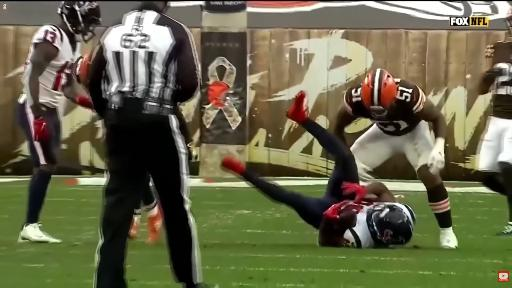Helmet: (367, 204, 413, 246), (361, 69, 397, 117), (58, 2, 100, 42), (74, 53, 91, 86), (505, 8, 511, 36)
Jersey: (19, 24, 75, 108), (344, 79, 426, 135), (344, 203, 415, 248), (492, 63, 511, 119)
Player: (222, 92, 414, 247), (335, 69, 457, 248), (18, 2, 100, 242), (478, 46, 511, 235), (319, 201, 415, 248), (129, 175, 162, 243)
